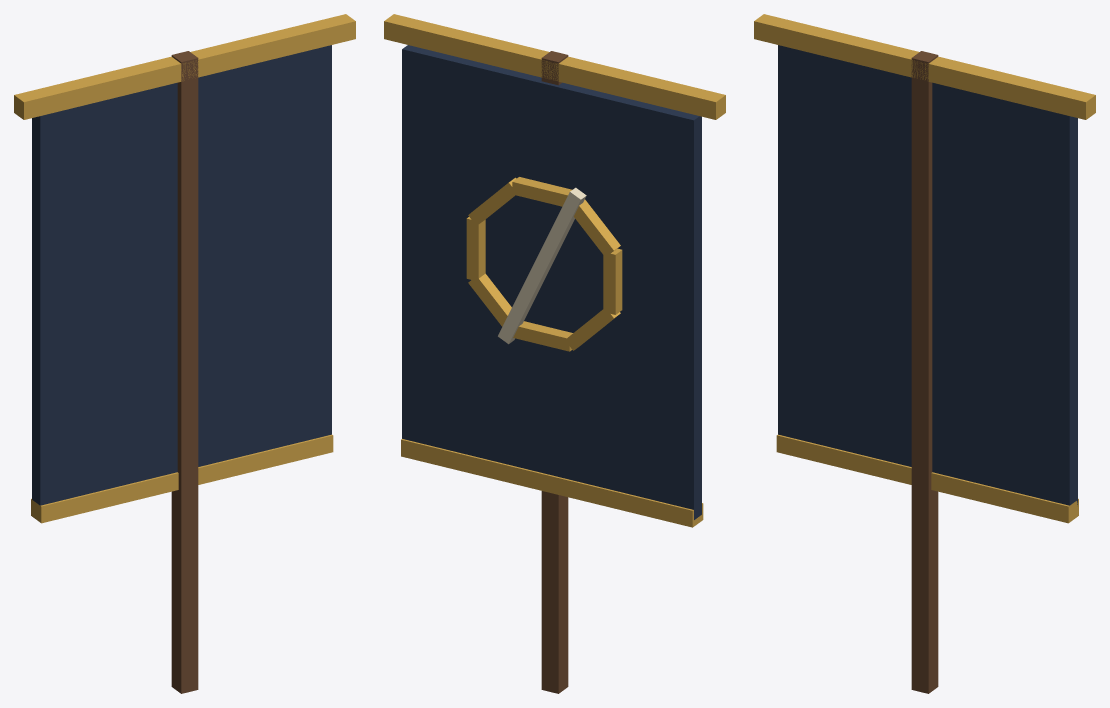
Rendered from company_banner.glb.
The picture shows the model from 3 angles, left to right: view 1: azimuth 30°, elevation 25°; view 2: azimuth 150°, elevation 25°; view 3: azimuth 330°, elevation 25°; orthographic projection.
Parts seen in each view (by area): view 1: company_banner; view 2: company_banner; view 3: company_banner.
Boxes of the visible parts, x1,y1,x2,y2 form: company_banner: [14, 14, 355, 693]; company_banner: [384, 14, 725, 693]; company_banner: [754, 14, 1095, 693].
Bounding box in the file's own units: 3.3 × 6 × 0.355.
